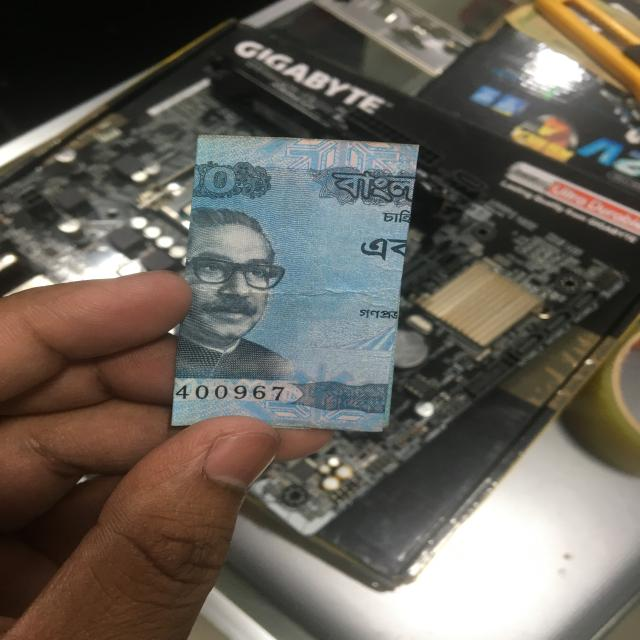Taka: (174, 135, 419, 423)
